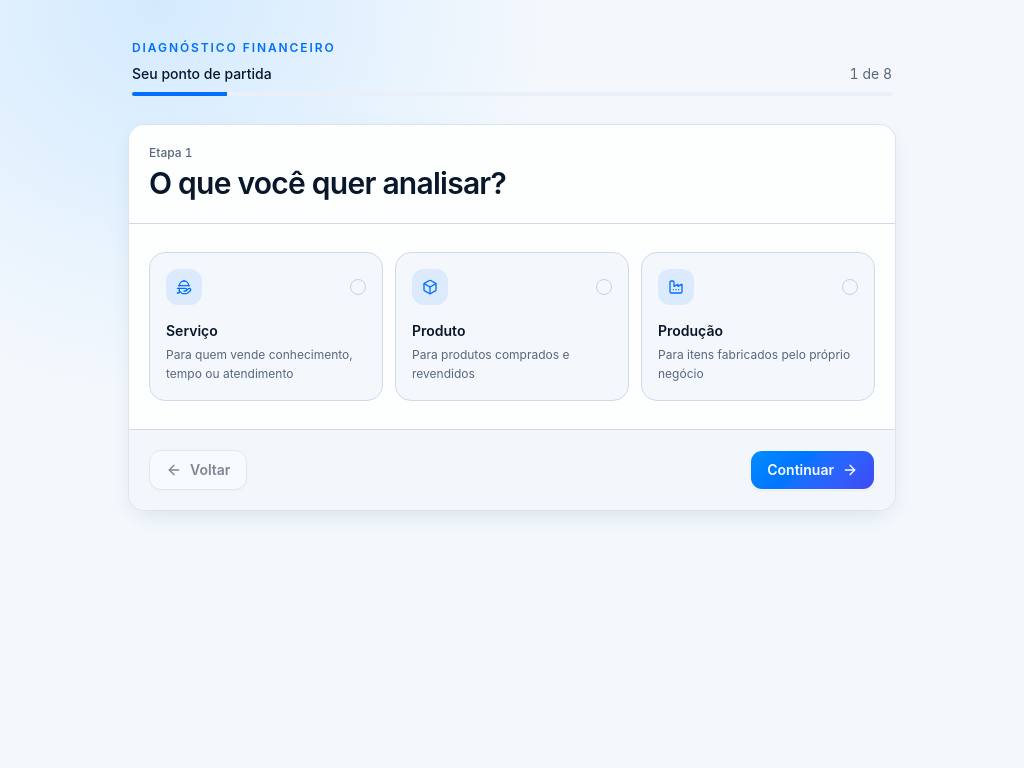
Test case: QuickDiagnosisWizard category orchestration › continues the same category in quick mode from the upgrade dialog
The width and height of the screenshot is (1024, 768).
What coordinates should you click on to do the following:
click the 2nd radio button named "Produto"
I would click on:
 (604, 286)
Its box is left=596, top=278, right=612, bottom=294.
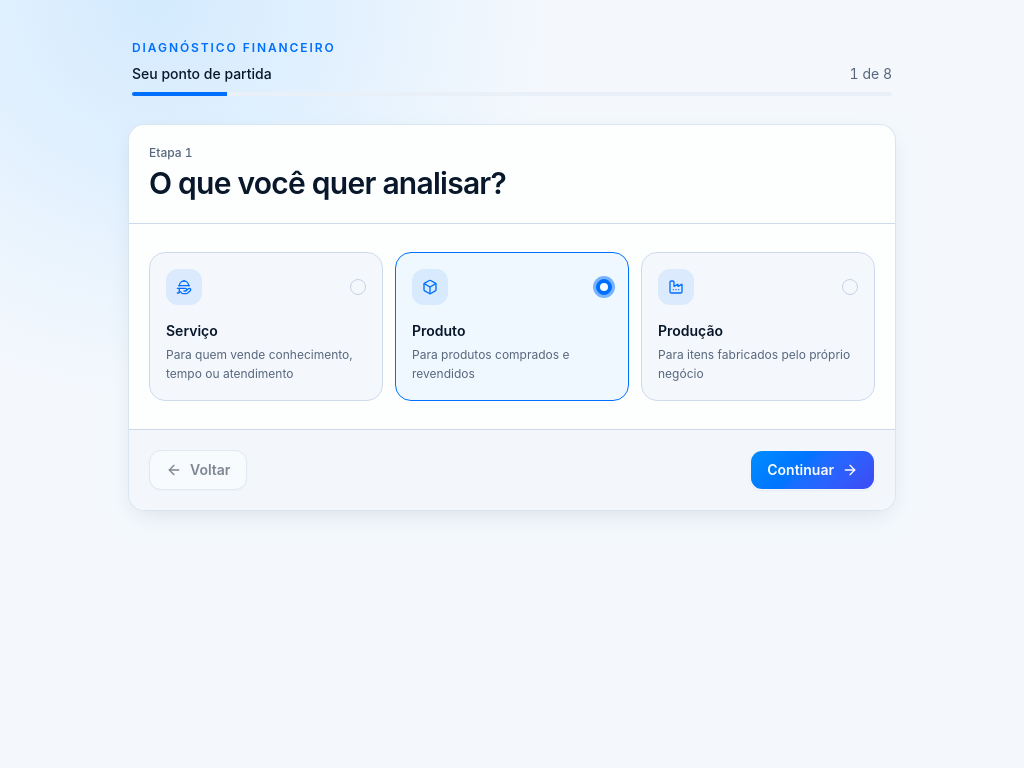
What coordinates should you click on to do the following:
click the button "Continuar"
I would click on:
 (813, 470)
Its box is left=750, top=450, right=875, bottom=490.
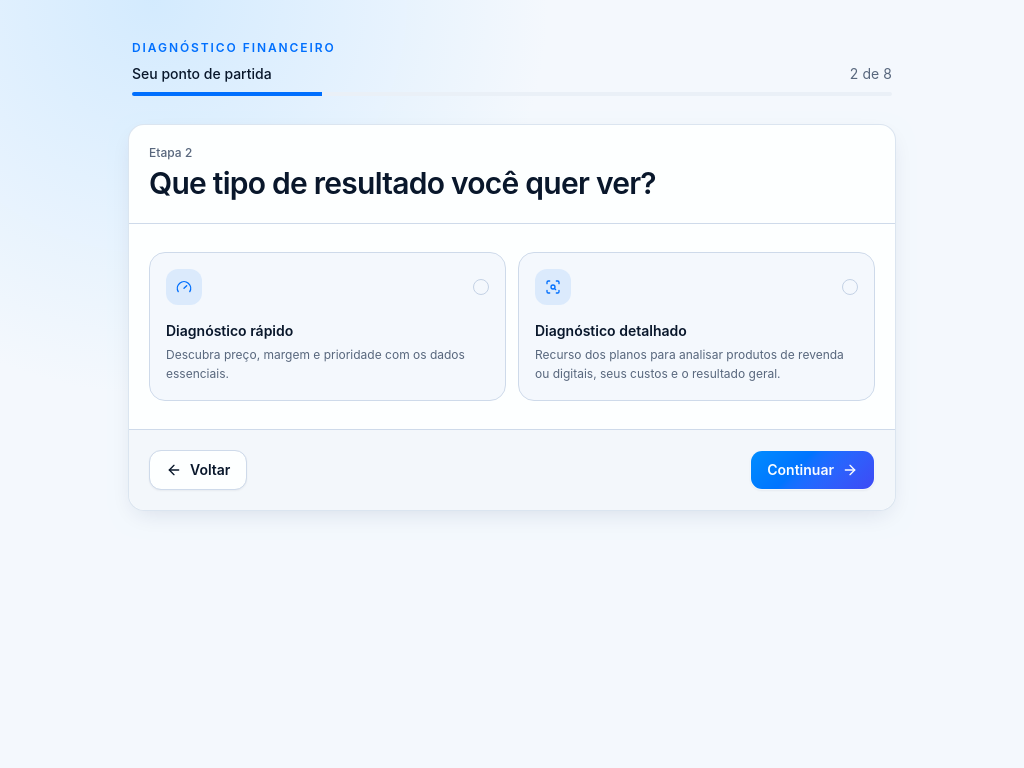
What coordinates should you click on to do the following:
click the 2nd radio button named "Diagnóstico detalhado"
I would click on:
 (850, 286)
Its box is left=842, top=278, right=858, bottom=294.
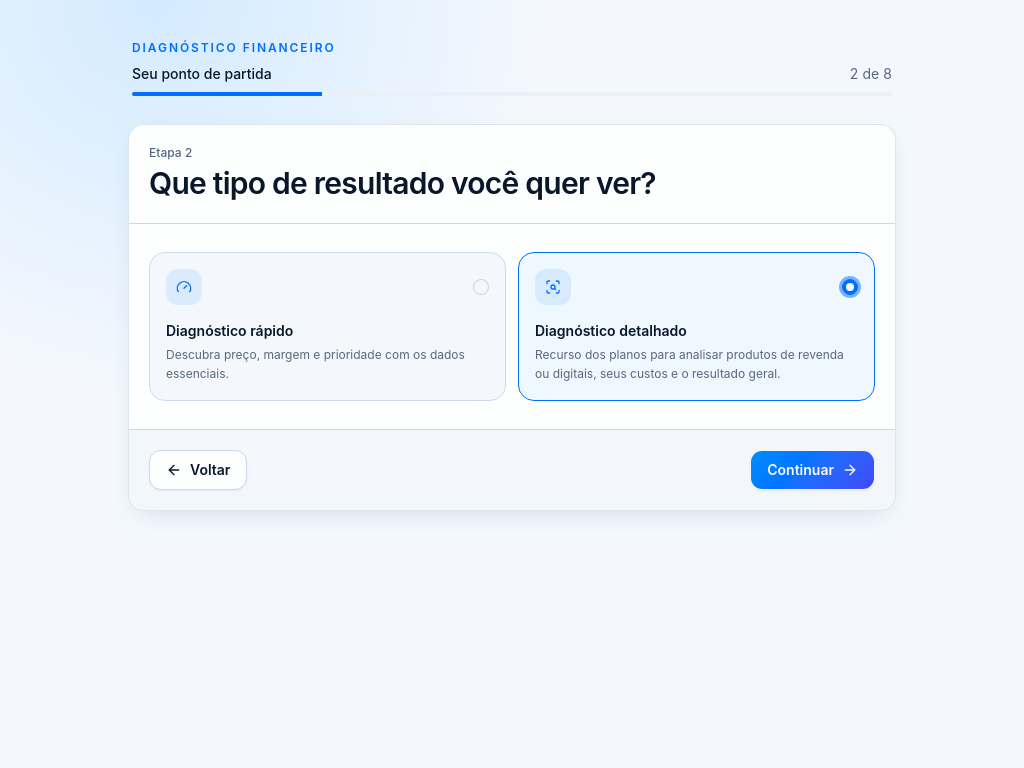
What coordinates should you click on to do the following:
click the button "Continuar"
I would click on:
 (813, 470)
Its box is left=750, top=450, right=875, bottom=490.
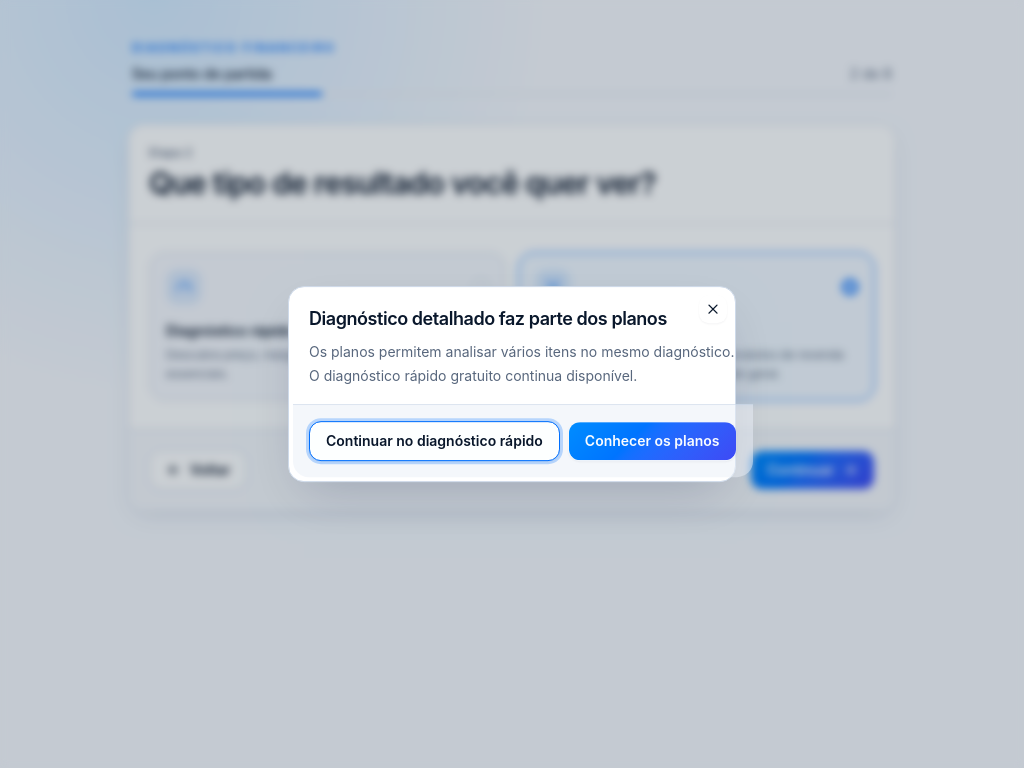
What coordinates should you click on to do the following:
click the button "Continuar no diagnóstico rápido"
I would click on:
 (434, 441)
Its box is left=309, top=421, right=560, bottom=461.
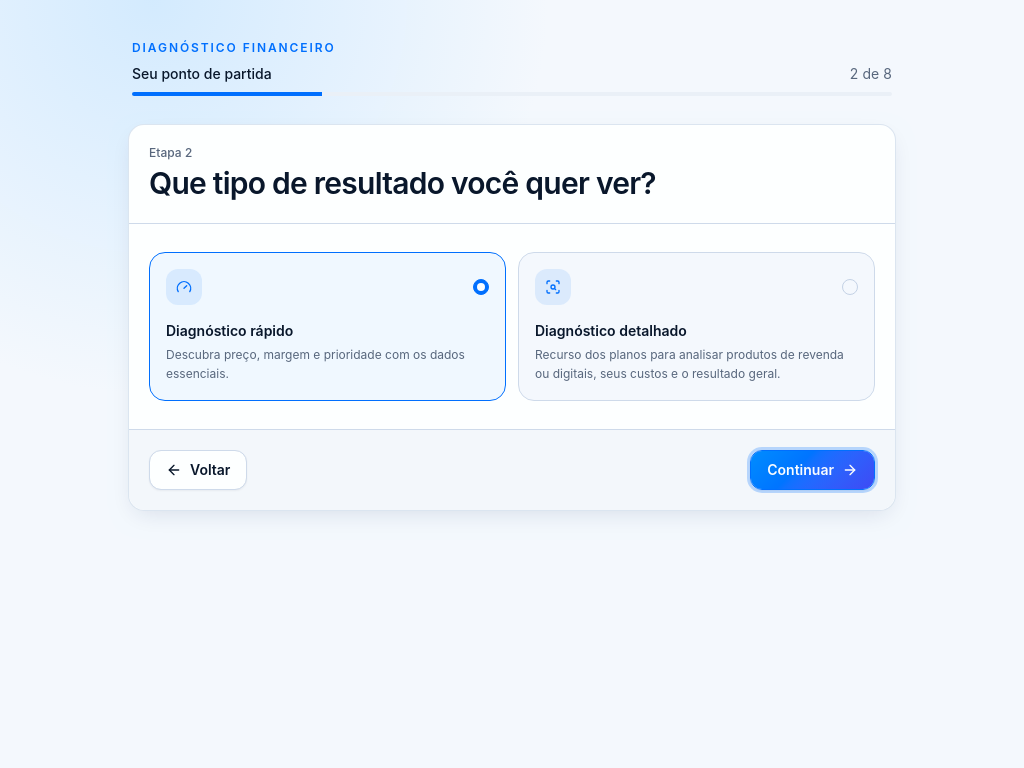
Now the heading "Que tipo de resultado você quer ver?" is shown, box left=149, top=165, right=656, bottom=201
Now the dialog is gone
Now the 1st radio button named "Diagnóstico rápido" is checked, box left=473, top=278, right=489, bottom=294
